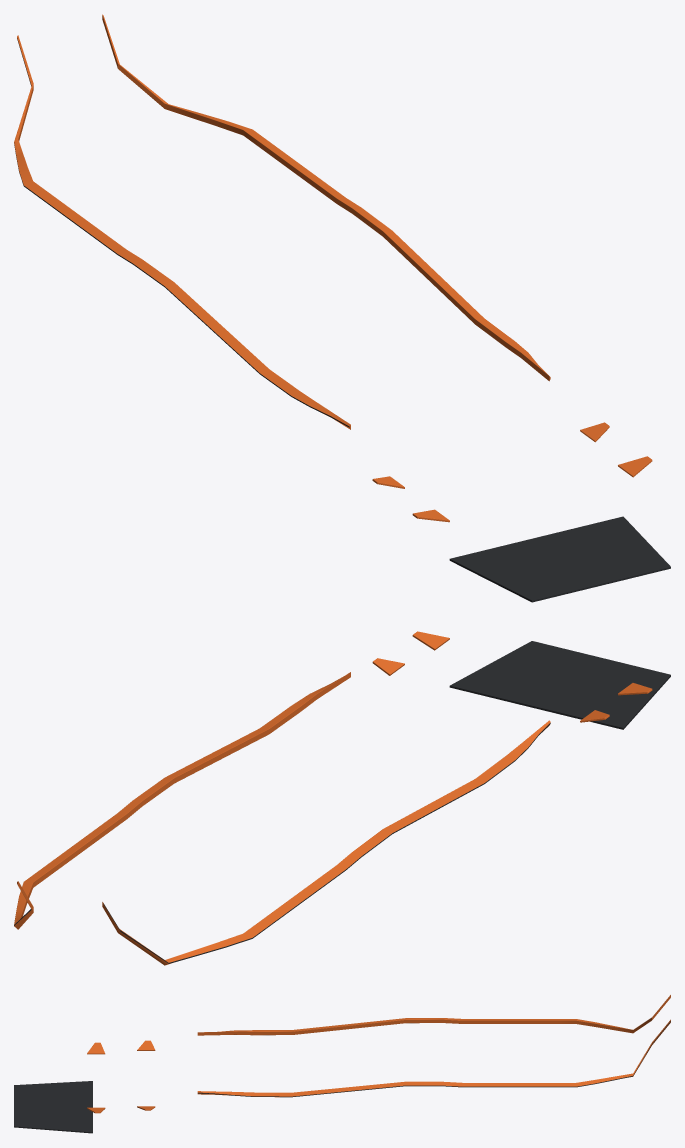
File: nomad_armor_ep.fbx
3 views of the same model, one above another, from view 1: azimuth 30°, elevation 25°; view 2: azimuth 150°, elevation 25°; view 3: azimuth 270°, elevation 25° (orthographic). The views are drawn at different scales.
Parts seen in each view (by area): view 1: Armor_Aero; view 2: Armor_Aero; view 3: Armor_Aero.
Boxes of the visible parts, bbox=[...] form: Armor_Aero: bbox=[14, 14, 670, 602]; Armor_Aero: bbox=[14, 631, 670, 965]; Armor_Aero: bbox=[14, 995, 670, 1133].
Size of the model in its own units: 165 by 111 by 656.
